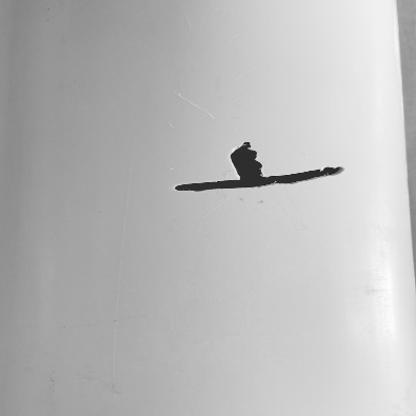fengxi: (174, 167, 346, 192)
kongdong: (228, 140, 269, 178)
